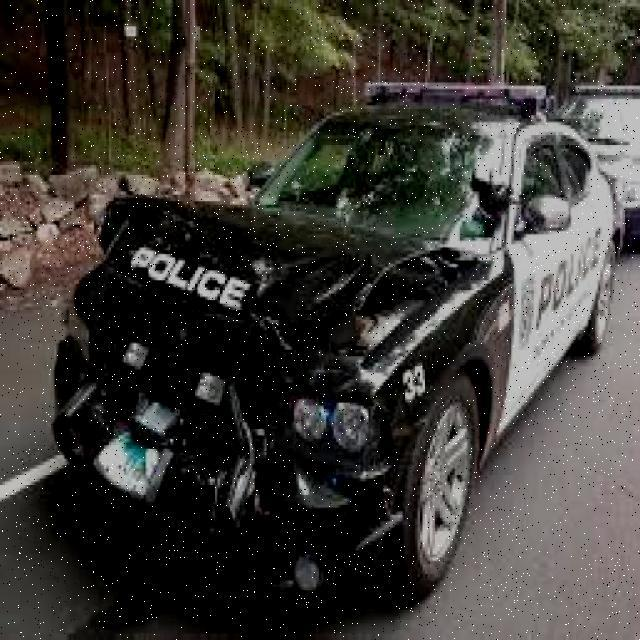car damage: (51, 177, 518, 593)
